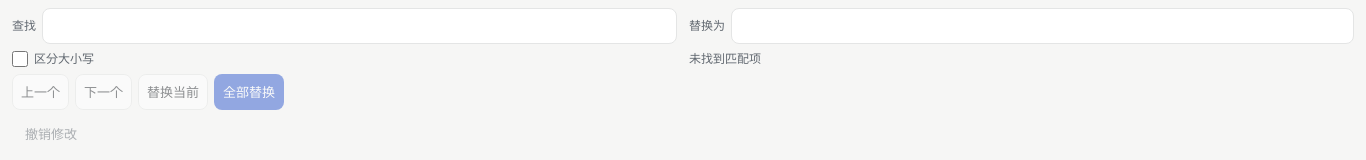
SearchReplacePanel › keeps labelled search controls available after clearing the query
The image size is (1366, 160).
Type "text" into the field labelled "查找" at (360, 26), box [42,8,677,44]
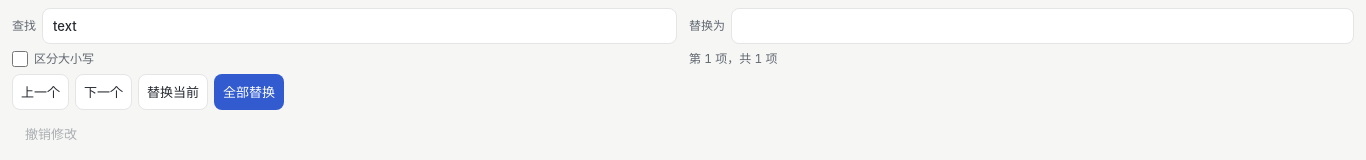
Clear the field labelled "查找" at (360, 26), box [42,8,677,44]
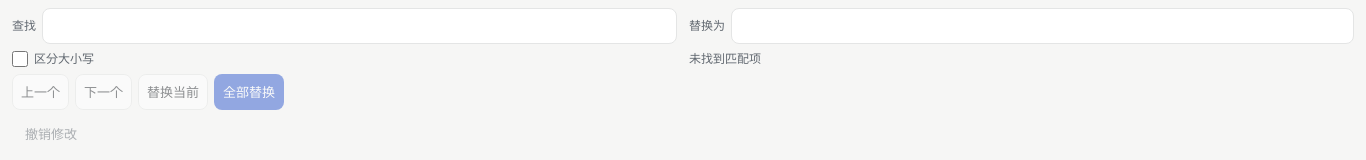
expect the message "未找到匹配项" is shown: met, box [689,51,761,66]
